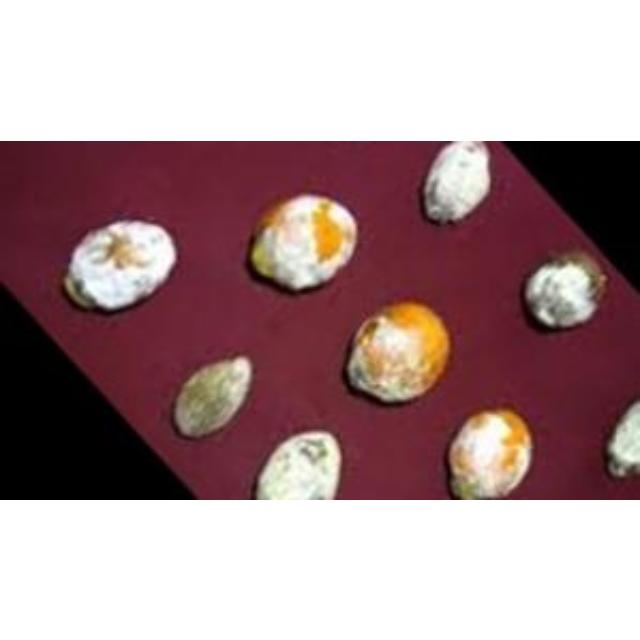damaged: (244, 191, 364, 297), (346, 299, 452, 403), (63, 218, 175, 312), (446, 407, 534, 499), (172, 354, 254, 438), (524, 250, 606, 328), (423, 140, 493, 226), (255, 429, 341, 499)
